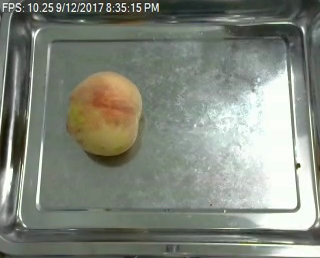Peach: (66, 69, 143, 157)
